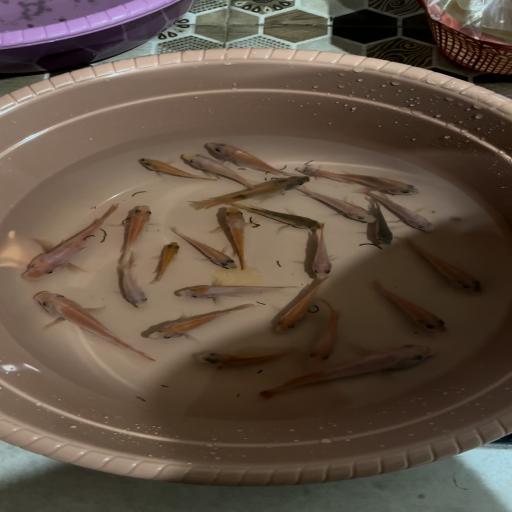nila: (32, 285, 161, 365), (257, 344, 437, 400), (13, 198, 127, 282), (402, 238, 490, 299), (138, 302, 262, 344), (366, 280, 455, 334), (190, 174, 314, 211), (168, 275, 303, 308), (206, 138, 308, 177), (268, 280, 338, 334), (360, 188, 438, 236), (163, 226, 242, 270), (294, 304, 352, 363), (226, 196, 324, 230), (186, 346, 298, 374), (298, 186, 380, 224), (216, 204, 263, 270), (335, 167, 426, 200), (178, 152, 255, 190), (297, 223, 343, 277), (112, 253, 157, 307), (124, 157, 215, 182), (116, 201, 158, 252), (367, 195, 403, 249), (149, 241, 189, 282), (294, 164, 361, 186)
